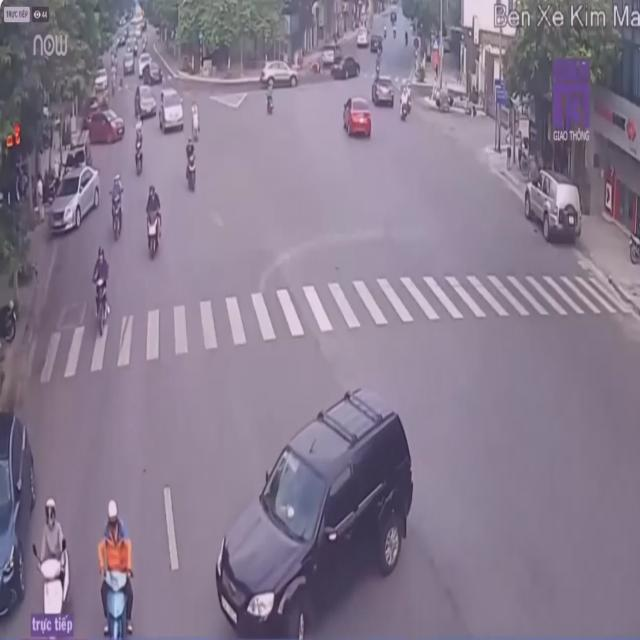car: (211, 381, 416, 636), (1, 404, 36, 639), (525, 168, 581, 248), (51, 165, 99, 232), (344, 94, 374, 140), (158, 87, 186, 135)
motorbike: (90, 498, 136, 638), (37, 501, 70, 616), (92, 245, 114, 337), (142, 184, 162, 262), (109, 176, 126, 240), (182, 130, 199, 192)
